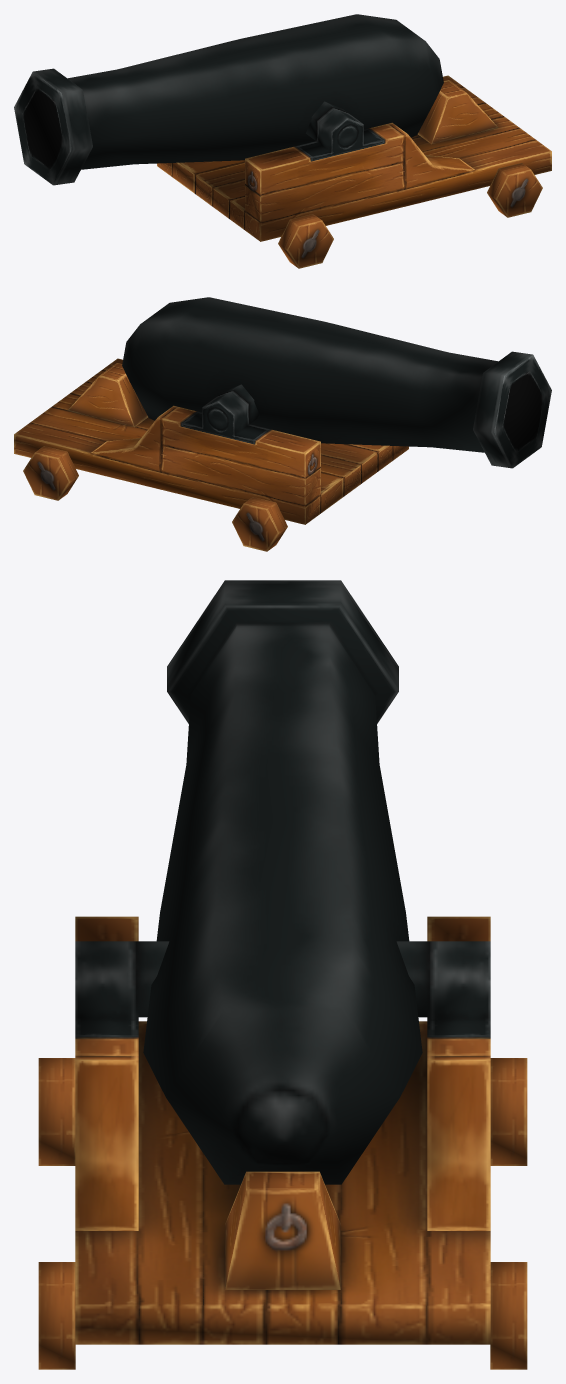
Rendered from cannon.fbx.
The picture shows the model from 3 angles, top to bottom: view 1: azimuth 30°, elevation 25°; view 2: azimuth 150°, elevation 25°; view 3: azimuth 270°, elevation 25°; orthographic projection. The views are drawn at different scales.
Visible parts, largest first — view 1: Cylinder; view 2: Cylinder; view 3: Cylinder.
Part boxes in pixels (left/top/right/bottom): Cylinder: left=14, top=14, right=551, bottom=268; Cylinder: left=14, top=297, right=551, bottom=551; Cylinder: left=38, top=580, right=527, bottom=1369.
Size of the model in its own units: 6.19 by 2.41 by 2.84.
